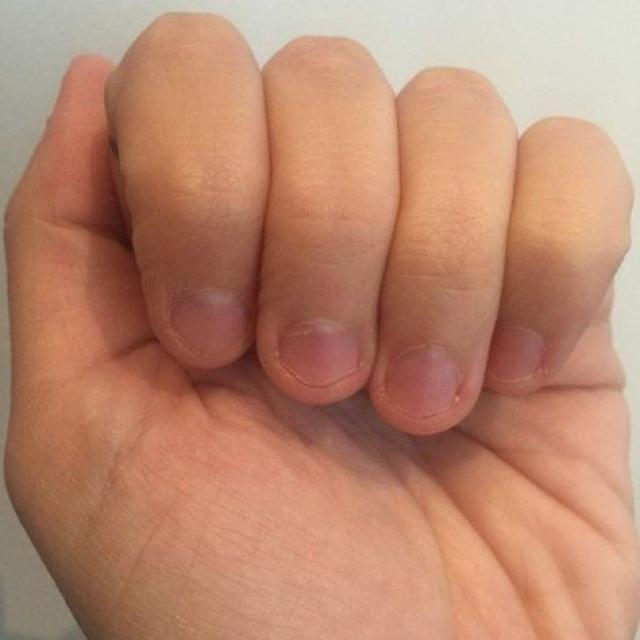Fingernail: (279, 318, 361, 387), (386, 344, 460, 420), (173, 291, 251, 358), (489, 327, 545, 384)
